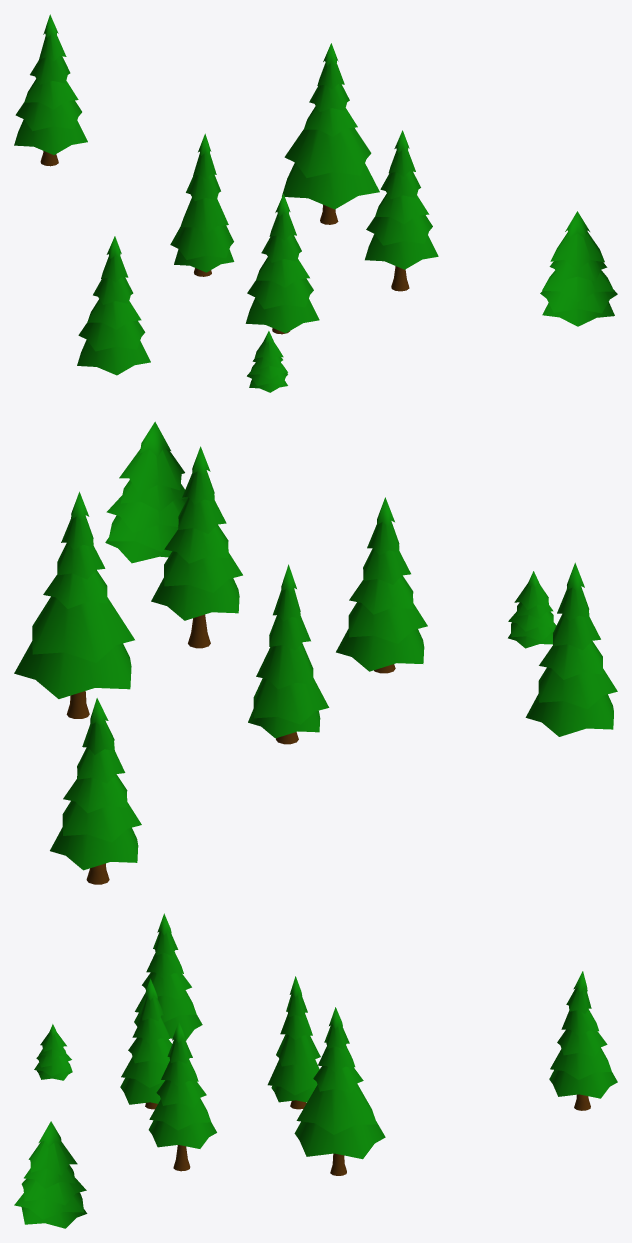
File: arboles.obj
3 views of the same model, one above another, from view 1: azimuth 30°, elevation 25°; view 2: azimuth 150°, elevation 25°; view 3: azimuth 270°, elevation 25° (orthographic). The views are drawn at different scales.
Parts seen in each view (by area): view 1: ???????_006, ???????_002, ???????_001, ???????_009, ???????_007, ???????_005, ???????_003, ???????_004; view 2: ???????_006, ???????_002, ???????_001, ???????_009, ???????_007, ???????_003, ???????_005, ???????_004; view 3: ???????_006, ???????_002, ???????_001, ???????_005, ???????_003, ???????_009, ???????_007, ???????_004.
Part boxes in pixels (x1,y1,x2,y2): ???????_006: (282,43,379,224); ???????_002: (365,130,438,291); ???????_001: (14,14,87,166); ???????_009: (245,194,319,334); ???????_007: (77,236,150,375); ???????_005: (540,211,617,326); ???????_003: (170,133,234,276); ???????_004: (247,331,287,392); ???????_006: (14,491,134,718); ???????_002: (151,446,242,648); ???????_001: (50,698,141,884); ???????_009: (336,497,427,673); ???????_007: (525,562,617,736); ???????_003: (248,564,329,744); ???????_005: (105,421,187,563); ???????_004: (508,571,556,648); ???????_006: (294,1007,385,1175); ???????_002: (148,1021,216,1171); ???????_001: (549,971,617,1110); ???????_005: (14,1121,87,1228); ???????_003: (267,976,320,1109); ???????_009: (120,978,171,1109); ???????_007: (134,913,202,1040); ???????_004: (34,1024,72,1080).
Size of the model in its own units: 3513 by 1288 by 4205.
1 material, 1 textured.
